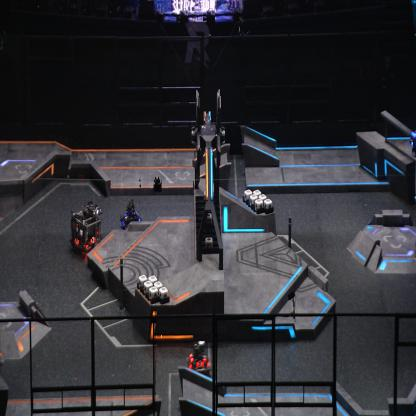car: (68, 201, 102, 258), (186, 339, 212, 375), (119, 198, 142, 232)
